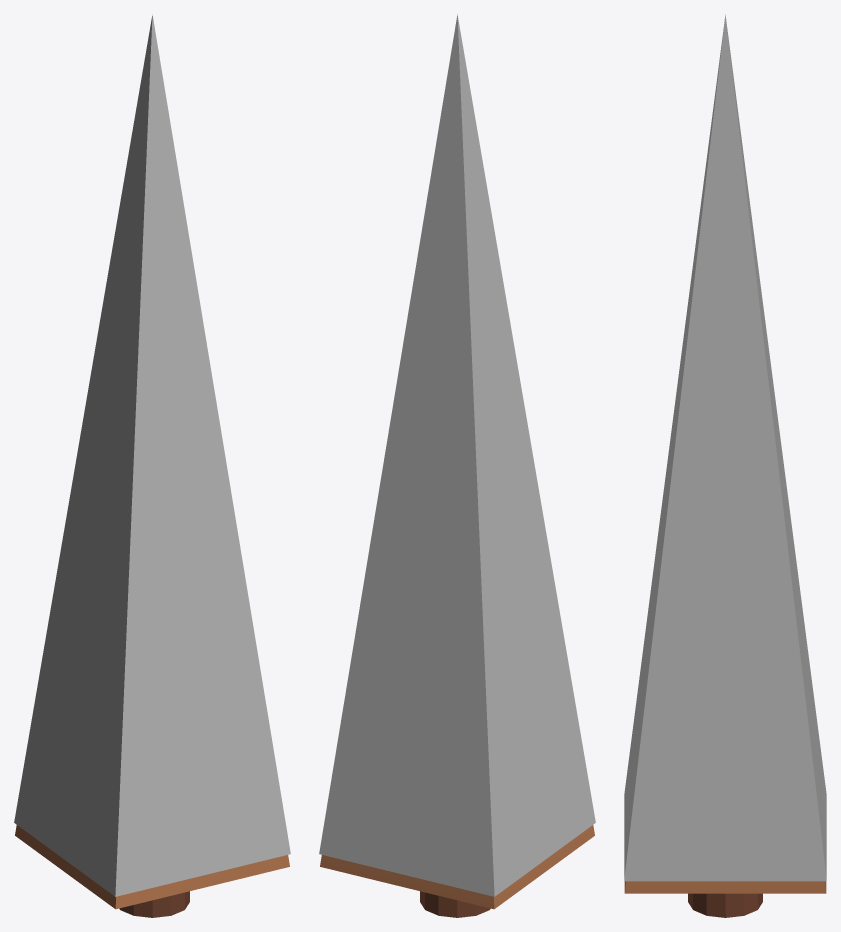
The model's file is Tree_19_winter_gradient_yellow_vc.fbx.
The picture shows the model from 3 angles, left to right: view 1: azimuth 30°, elevation 25°; view 2: azimuth 150°, elevation 25°; view 3: azimuth 270°, elevation 25°; orthographic projection.
Parts seen in each view (by area): view 1: Tree_19_winter_gradient_yellow_vc; view 2: Tree_19_winter_gradient_yellow_vc; view 3: Tree_19_winter_gradient_yellow_vc.
Part boxes in pixels (<box>): Tree_19_winter_gradient_yellow_vc: <box>14,14,290,917</box>; Tree_19_winter_gradient_yellow_vc: <box>319,14,595,917</box>; Tree_19_winter_gradient_yellow_vc: <box>624,14,826,917</box>.
Bounding box in the file's own units: 60.03 × 290 × 60.03.
